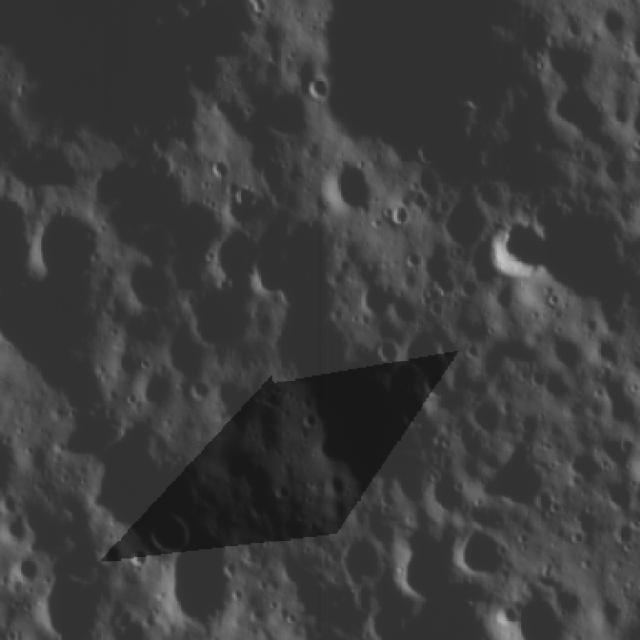crater: (320, 2, 531, 162), (81, 430, 201, 535), (530, 198, 630, 320), (24, 203, 113, 292), (164, 533, 233, 632), (174, 288, 269, 354), (470, 436, 547, 510), (388, 514, 454, 598), (42, 404, 129, 462), (193, 223, 265, 289), (316, 156, 382, 224), (34, 572, 104, 636), (484, 211, 545, 284), (109, 252, 174, 318), (253, 81, 315, 148), (498, 585, 576, 637), (451, 518, 514, 582), (548, 81, 614, 139), (207, 370, 268, 432), (540, 32, 606, 86), (334, 524, 386, 588), (148, 501, 198, 564), (401, 325, 453, 380), (134, 365, 188, 412), (354, 274, 398, 320), (564, 441, 604, 485), (298, 68, 334, 104), (387, 198, 416, 232), (374, 327, 398, 367)
